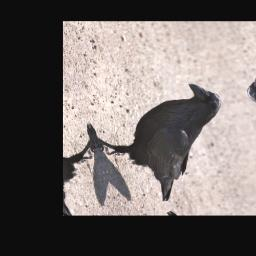Crow: (82, 77, 252, 212)
